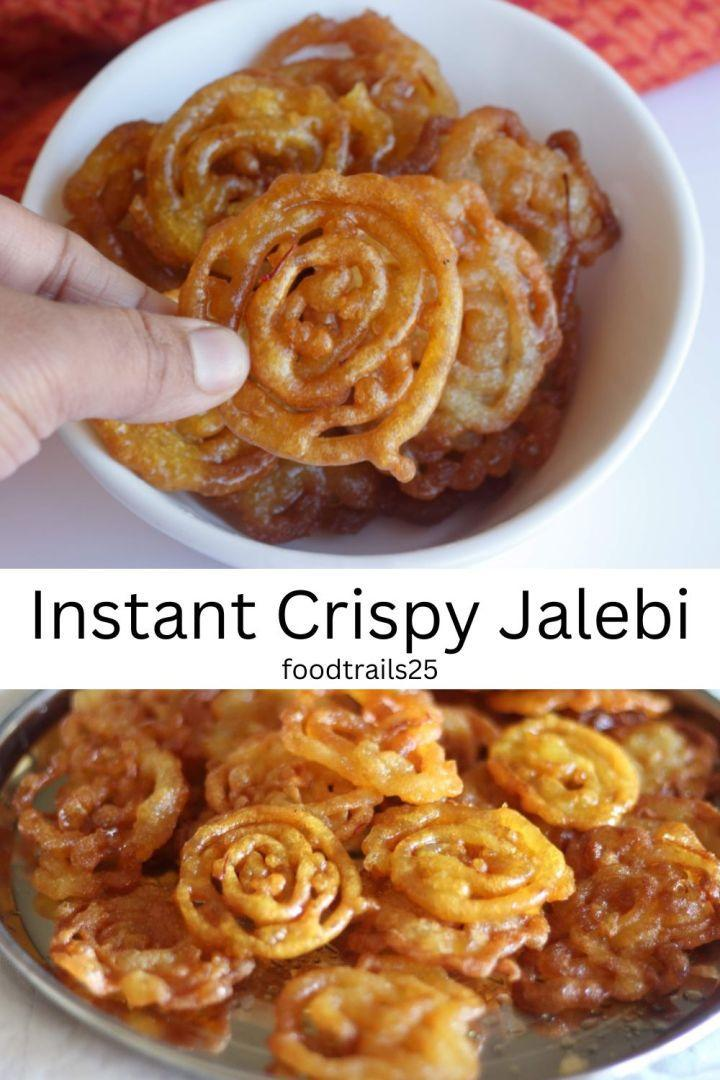jalebi: (27, 702, 703, 1080), (57, 48, 610, 506)
